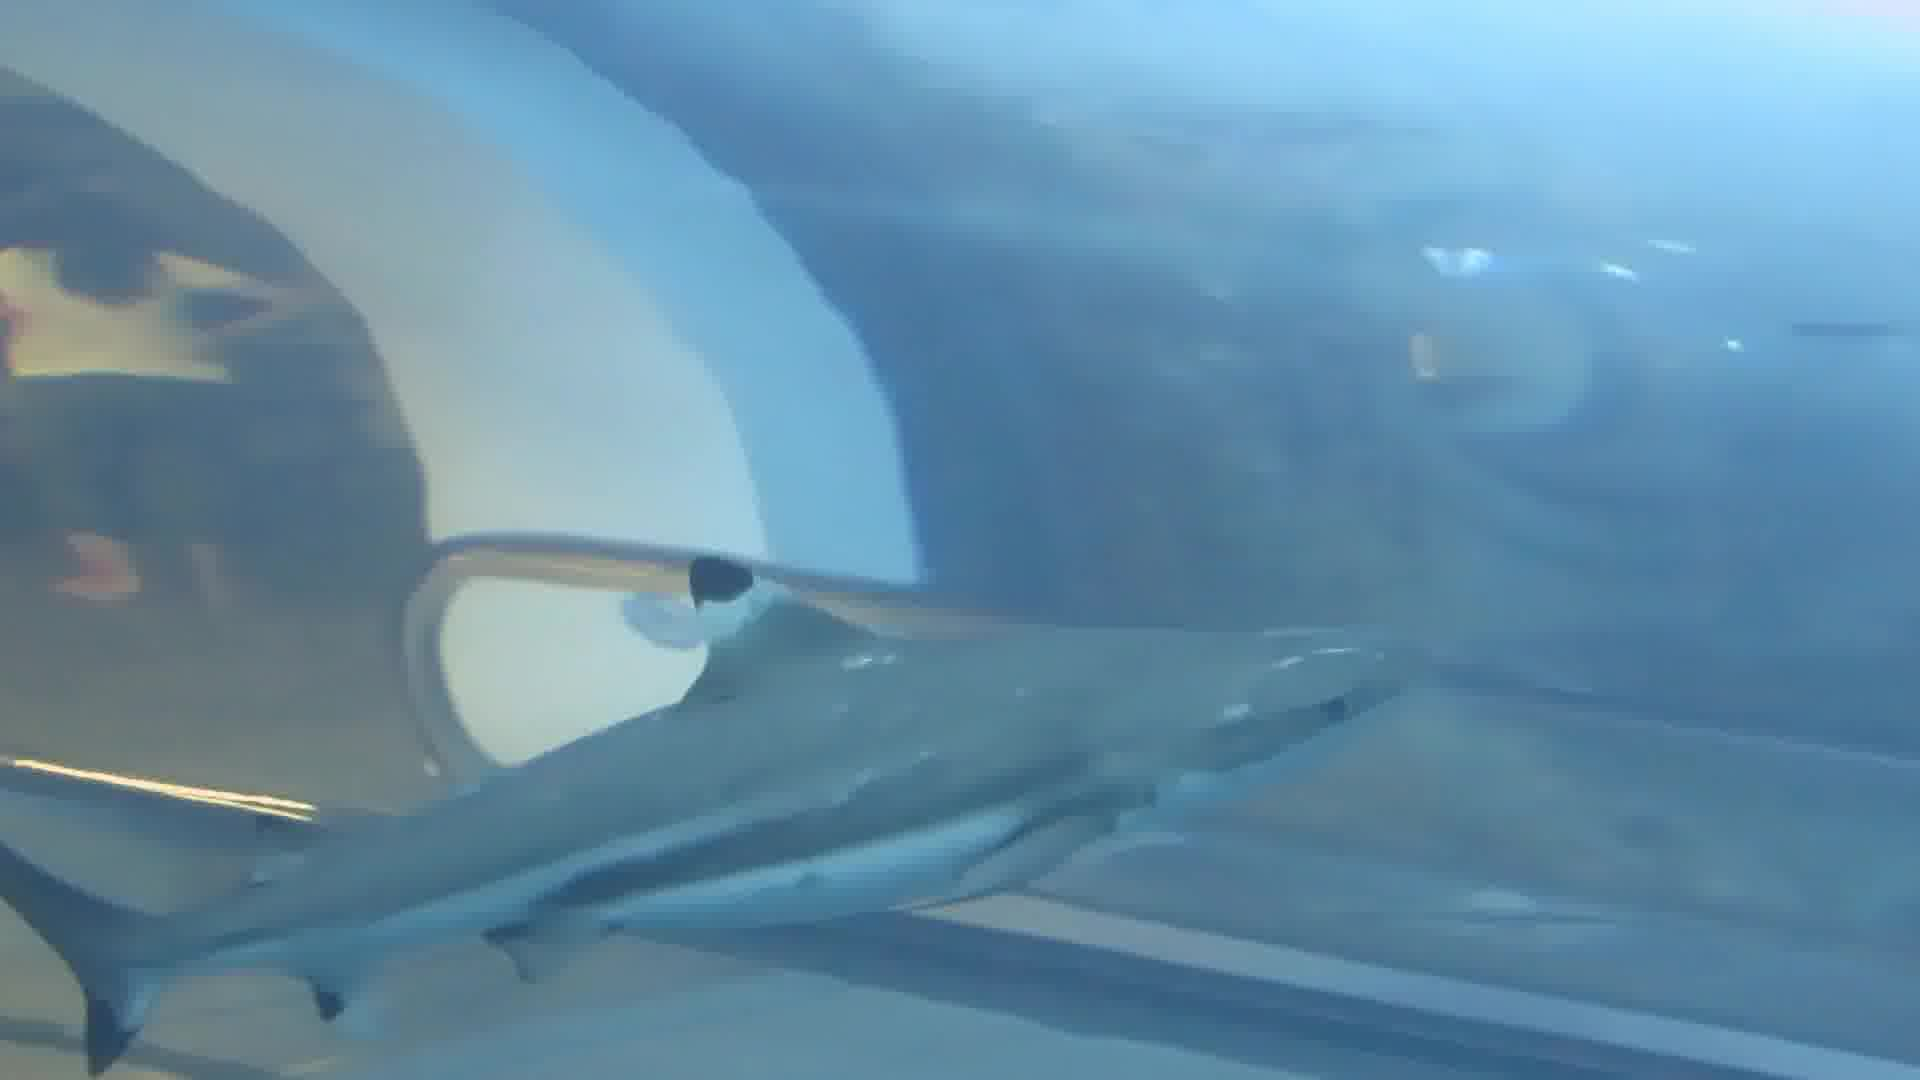Carcharhinus melanopterus: (1, 551, 1445, 1043)
